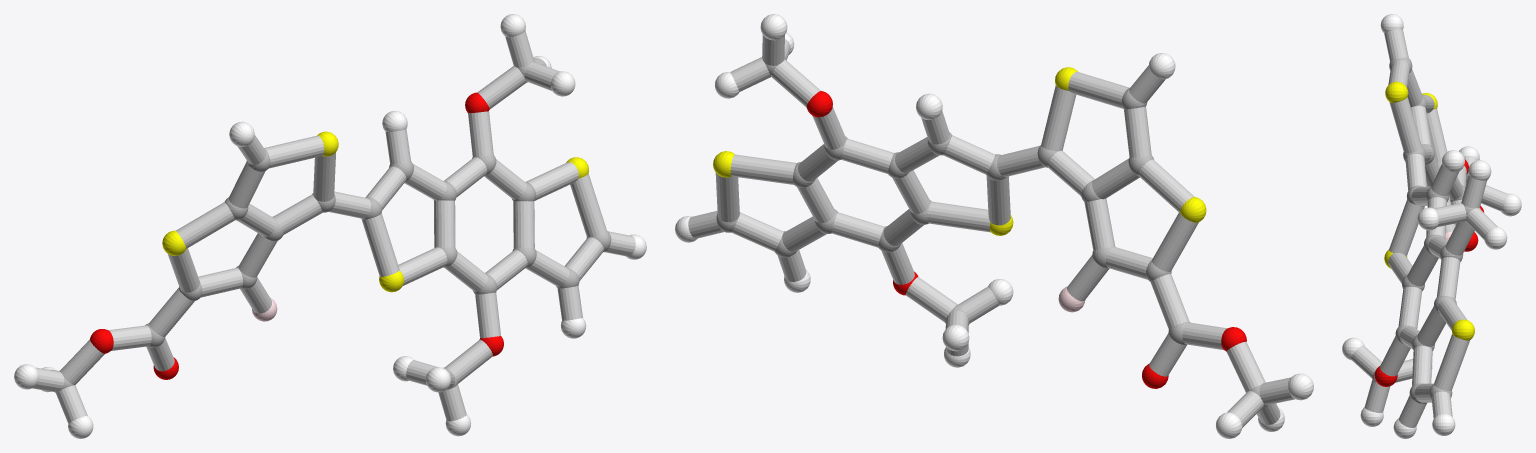
The model's file is color.glb.
The picture shows the model from 3 angles, left to right: view 1: azimuth 30°, elevation 25°; view 2: azimuth 150°, elevation 25°; view 3: azimuth 270°, elevation 25°; orthographic projection. The views are drawn at different scales.
Parts seen in each view (by area): view 1: grp15205, grp8689, grp1, grp7241, grp13395; view 2: grp15205, grp8689, grp1, grp13395, grp7241; view 3: grp15205, grp8689, grp1, grp7241, grp13395.
Part boxes in pixels (x1,y1,x2,y2): grp15205: [32, 31, 635, 423]; grp8689: [14, 14, 646, 438]; grp1: [55, 61, 611, 392]; grp7241: [162, 131, 588, 292]; grp13395: [90, 92, 503, 379]; grp15205: [688, 35, 1294, 427]; grp8689: [675, 14, 1313, 438]; grp1: [716, 56, 1267, 408]; grp13395: [806, 91, 1246, 388]; grp7241: [713, 67, 1206, 235]; grp15205: [1351, 29, 1507, 427]; grp8689: [1342, 14, 1521, 438]; grp1: [1372, 57, 1479, 403]; grp7241: [1384, 81, 1474, 340]; grp13395: [1374, 159, 1484, 386].
Bounding box in the file's own units: 16.75 × 9.2 × 4.68.
